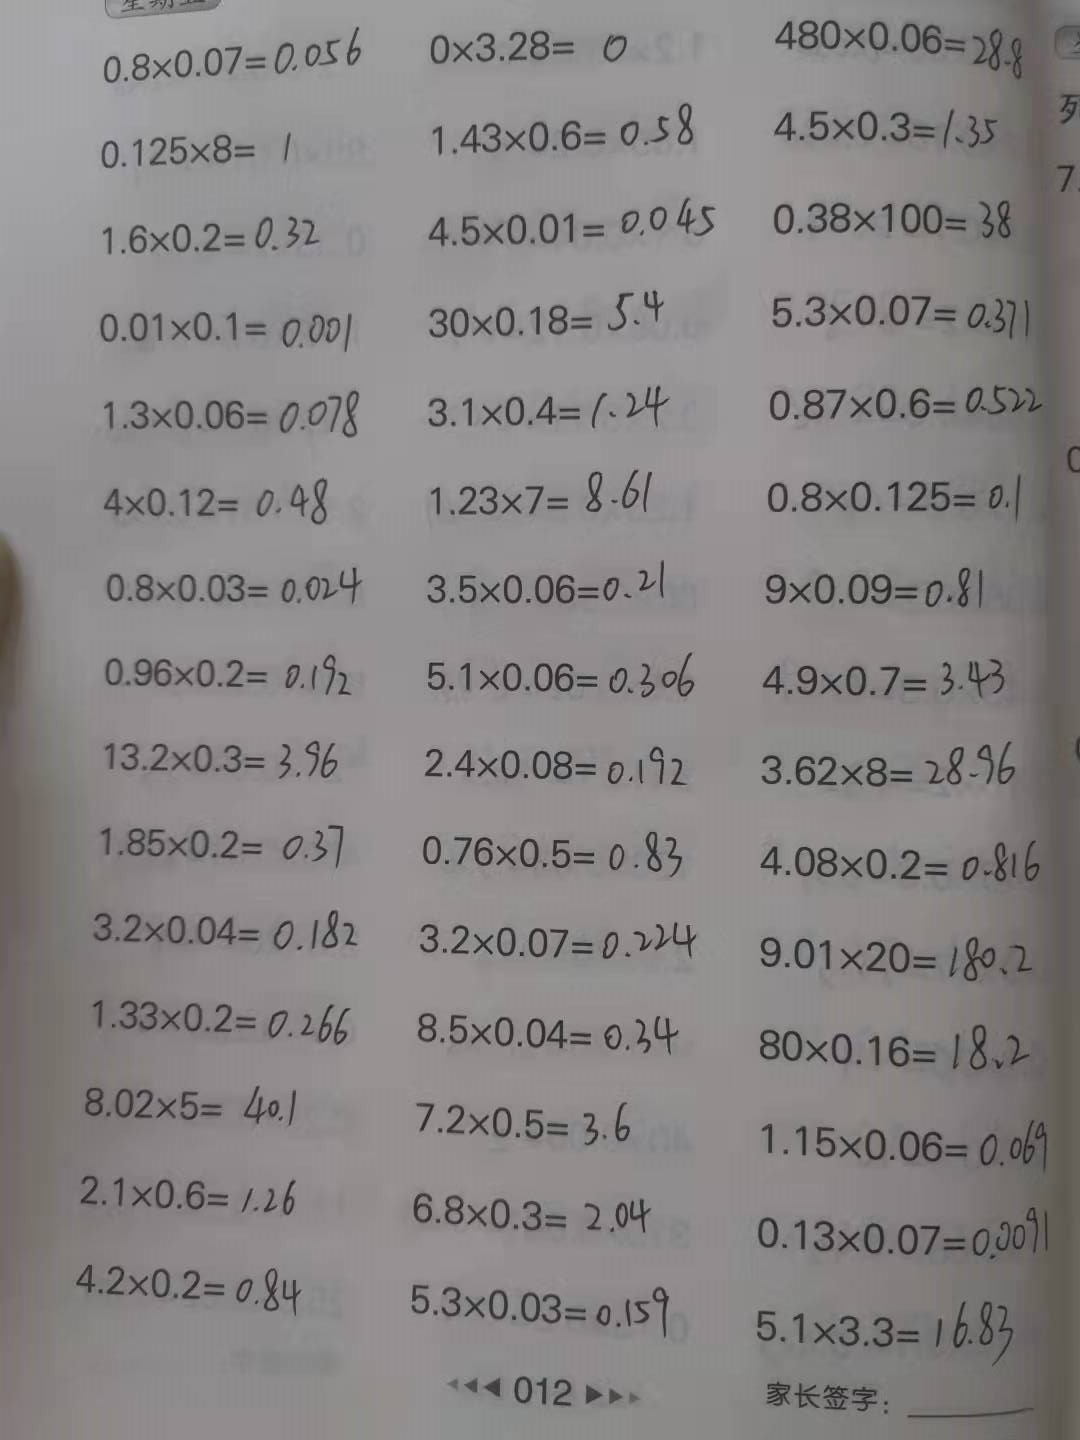equation: (771, 9, 1033, 90), (743, 1298, 1047, 1367), (410, 732, 711, 801), (427, 96, 708, 167), (91, 468, 374, 537), (756, 287, 1043, 355), (753, 1113, 1061, 1177), (753, 832, 1051, 897), (408, 905, 700, 971), (419, 192, 732, 253), (87, 983, 355, 1054), (411, 647, 711, 711), (746, 1206, 1062, 1267), (750, 1014, 1038, 1079), (95, 16, 368, 85), (93, 291, 370, 359), (752, 460, 1031, 527), (743, 927, 1047, 989), (413, 549, 674, 619), (406, 1178, 670, 1247), (411, 823, 698, 887), (91, 380, 368, 444), (93, 554, 373, 617), (410, 1002, 690, 1064), (400, 1274, 681, 1335), (415, 376, 670, 442), (765, 187, 1023, 251), (71, 1161, 318, 1227), (83, 901, 362, 959), (759, 374, 1053, 429), (91, 725, 352, 786), (417, 288, 674, 349), (65, 1253, 307, 1318), (397, 1091, 640, 1155), (753, 737, 1031, 791), (746, 559, 995, 619), (773, 100, 1009, 162), (87, 819, 357, 873), (420, 463, 670, 520), (75, 1078, 311, 1140), (96, 644, 358, 698), (752, 655, 1026, 708), (92, 115, 306, 177), (415, 20, 642, 77), (90, 209, 328, 260)
